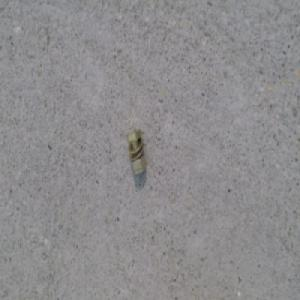BoltNutSet: (127, 131, 148, 180)
